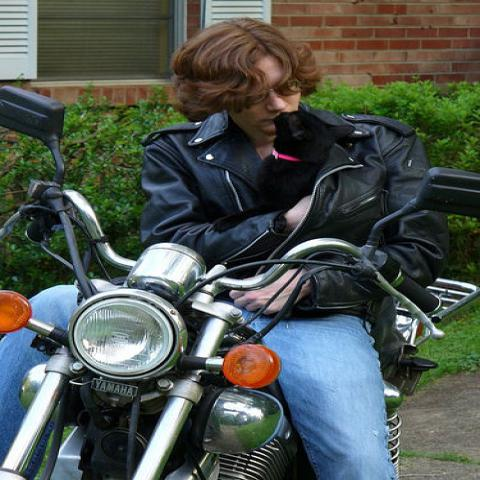motorcycle: (5, 192, 456, 474)
